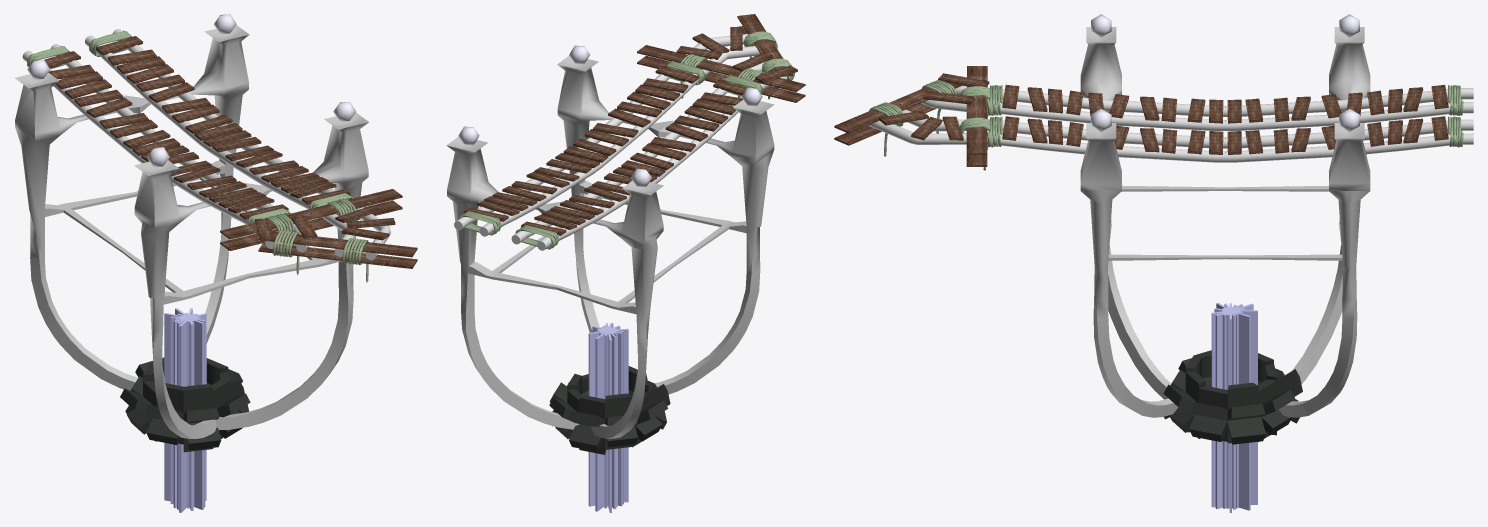
Rendered from 2_bridge_left.fbx.
3 views of the same model, side by side, from view 1: azimuth 30°, elevation 25°; view 2: azimuth 150°, elevation 25°; view 3: azimuth 270°, elevation 25° (orthographic). The views are drawn at different scales.
Visible parts, largest first — view 1: 2_left_base, gravityring, 2_left_LaR, 2_left_LaL, 2_left_verschlag, 2_left_verschlag02, 2_left_LaR_c, 2_left_verschlag_ropes, 2_left_LaL_c, 2_left_LaR_ropes, 2_left_LaL_ropes, 2_left_ropevertical; view 2: 2_left_base, gravityring, 2_left_LaR, 2_left_LaL, 2_left_verschlag02, 2_left_LaR_c, 2_left_verschlag, 2_left_LaR_ropes, 2_left_LaL_ropes, 2_left_LaL_c, 2_left_verschlag_ropes, 2_left_ropevertical; view 3: 2_left_base, gravityring, 2_left_LaL, 2_left_LaR, 2_left_LaR_c, 2_left_verschlag, 2_left_verschlag02, 2_left_LaL_c, 2_left_LaL_ropes, 2_left_LaR_ropes, 2_left_verschlag_ropes.
Boxes of the visible parts, bbox=[...] form: 2_left_base: bbox=[15, 14, 368, 438]; gravityring: bbox=[120, 308, 250, 512]; 2_left_LaR: bbox=[85, 29, 350, 219]; 2_left_LaL: bbox=[22, 44, 288, 226]; 2_left_verschlag: bbox=[258, 231, 417, 268]; 2_left_verschlag02: bbox=[220, 189, 402, 250]; 2_left_LaR_c: bbox=[324, 199, 395, 260]; 2_left_verschlag_ropes: bbox=[272, 230, 368, 282]; 2_left_LaL_c: bbox=[255, 215, 317, 252]; 2_left_LaR_ropes: bbox=[89, 30, 353, 218]; 2_left_LaL_ropes: bbox=[27, 46, 291, 233]; 2_left_ropevertical: bbox=[265, 198, 355, 231]; 2_left_base: bbox=[446, 45, 774, 438]; gravityring: bbox=[549, 322, 670, 512]; 2_left_LaR: bbox=[454, 65, 709, 236]; 2_left_LaL: bbox=[511, 80, 766, 250]; 2_left_verschlag02: bbox=[637, 45, 805, 102]; 2_left_LaR_c: bbox=[676, 26, 760, 75]; 2_left_verschlag: bbox=[737, 14, 793, 87]; 2_left_LaR_ropes: bbox=[458, 61, 705, 235]; 2_left_LaL_ropes: bbox=[515, 75, 763, 249]; 2_left_LaL_c: bbox=[733, 52, 797, 87]; 2_left_verschlag_ropes: bbox=[743, 31, 794, 99]; 2_left_ropevertical: bbox=[678, 54, 764, 98]; 2_left_base: bbox=[1080, 14, 1370, 417]; gravityring: bbox=[1163, 303, 1302, 512]; 2_left_LaL: bbox=[987, 85, 1473, 130]; 2_left_LaR: bbox=[987, 116, 1473, 162]; 2_left_LaR_c: bbox=[868, 109, 989, 144]; 2_left_verschlag: bbox=[834, 83, 962, 145]; 2_left_verschlag02: bbox=[966, 66, 987, 166]; 2_left_LaL_c: bbox=[921, 73, 989, 111]; 2_left_LaL_ropes: bbox=[987, 85, 1463, 115]; 2_left_LaR_ropes: bbox=[987, 116, 1463, 147]; 2_left_verschlag_ropes: bbox=[869, 80, 956, 156].
Size of what is drawn, in the model's own units: 64 by 117 by 155.
Materials: 7 (1 with a texture image).
